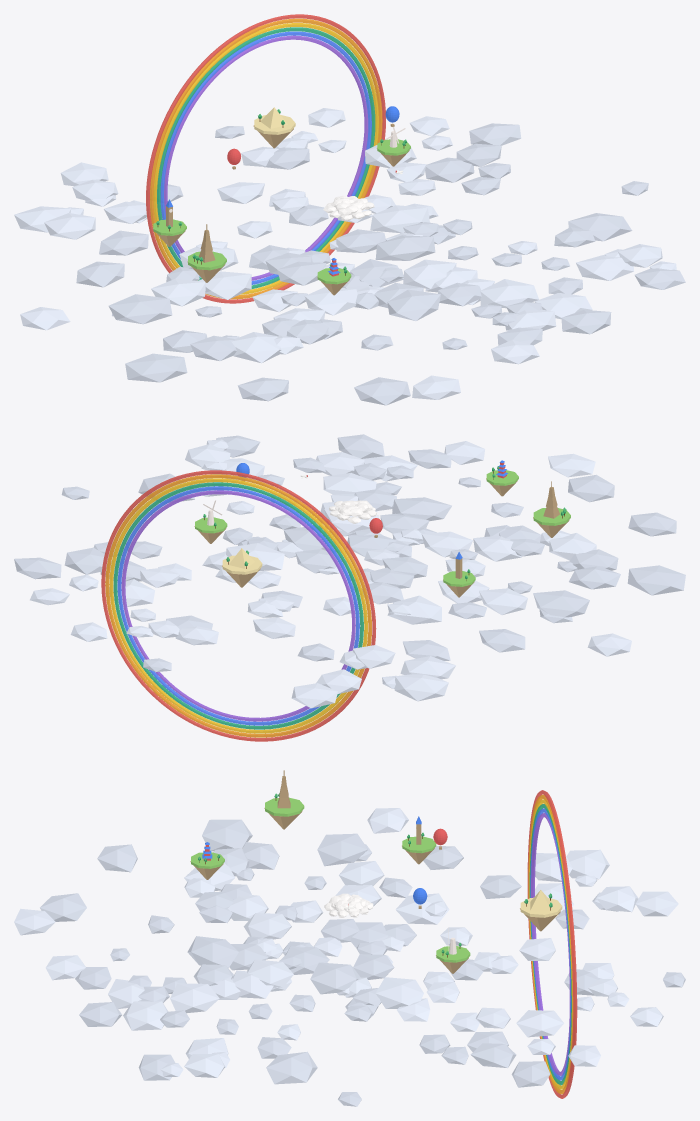
The model's file is env_passport.glb.
3 renders of one model, top to bottom at view 1: azimuth 30°, elevation 25°; view 2: azimuth 150°, elevation 25°; view 3: azimuth 270°, elevation 25°, orthographic. The views are drawn at different scales.
Parts seen in each view (by area): view 1: env_cloud2, env_cloud, env_rb0, env_rb1, env_rb2, env_rb3, env_rb4, env_rb5, env_land, env_rock.001, env_cr_cloud, env_sand; view 2: env_cloud2, env_cloud, env_rb0, env_rb1, env_rb2, env_rb3, env_rb4, env_rb5, env_land, env_rock.001, env_cr_cloud, env_sand; view 3: env_cloud2, env_cloud, env_rb0, env_land, env_rock.001, env_rb5, env_cr_cloud, env_rb1, env_rb2, env_rb3, env_rb4, env_sand.
Part boxes in pixels (left/top/right/bottom): env_cloud2: left=76, top=123, right=685, bottom=405; env_cloud: left=14, top=108, right=676, bottom=399; env_rb0: left=146, top=14, right=385, bottom=303; env_rb1: left=150, top=18, right=382, bottom=299; env_rb2: left=153, top=23, right=378, bottom=294; env_rb3: left=157, top=27, right=375, bottom=289; env_rb4: left=160, top=31, right=371, bottom=284; env_rb5: left=164, top=35, right=368, bottom=280; env_land: left=153, top=139, right=410, bottom=284; env_rock.001: left=152, top=123, right=409, bottom=295; env_cr_cloud: left=323, top=195, right=374, bottom=220; env_sand: left=254, top=107, right=295, bottom=134; env_cloud2: left=14, top=434, right=685, bottom=671; env_cloud: left=30, top=439, right=631, bottom=708; env_rb0: left=101, top=470, right=376, bottom=741; env_rb1: left=105, top=474, right=371, bottom=737; env_rb2: left=109, top=478, right=367, bottom=733; env_rb3: left=113, top=482, right=363, bottom=729; env_rb4: left=117, top=486, right=359, bottom=725; env_rb5: left=121, top=490, right=355, bottom=721; env_land: left=195, top=470, right=570, bottom=586; env_rock.001: left=194, top=478, right=569, bottom=597; env_cr_cloud: left=329, top=500, right=376, bottom=523; env_sand: left=222, top=548, right=262, bottom=574; env_cloud2: left=40, top=819, right=685, bottom=1106; env_cloud: left=14, top=808, right=678, bottom=1077; env_rb0: left=527, top=790, right=577, bottom=1098; env_land: left=191, top=797, right=470, bottom=962; env_rock.001: left=190, top=770, right=560, bottom=973; env_rb5: left=531, top=813, right=570, bottom=1075; env_cr_cloud: left=324, top=893, right=373, bottom=917; env_rb1: left=528, top=794, right=573, bottom=1094; env_rb2: left=529, top=799, right=572, bottom=1089; env_rb3: left=529, top=804, right=571, bottom=1085; env_rb4: left=530, top=808, right=571, bottom=1080; env_sand: left=520, top=890, right=562, bottom=917.
Size of the model in its own units: 139 by 60.84 by 132.
Materials: 2 (2 with a texture image).
